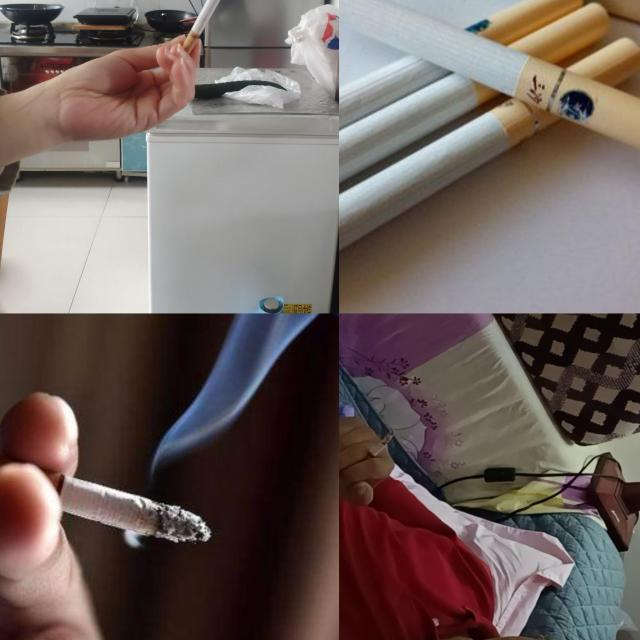smoking: (340, 36, 640, 308), (339, 2, 612, 252), (339, 0, 639, 180), (338, 0, 584, 207), (0, 438, 213, 544), (174, 0, 235, 64), (365, 433, 393, 461)
